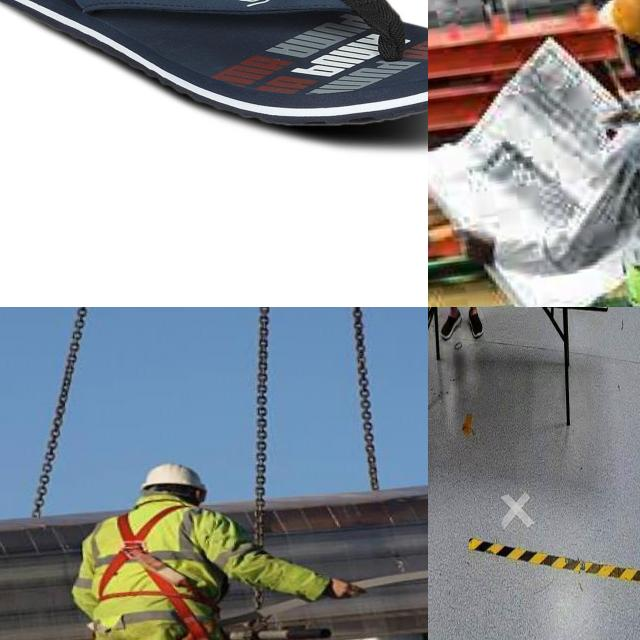Harness: (99, 506, 190, 618)
Sandals: (0, 0, 428, 127)
shoes: (438, 308, 464, 342)
